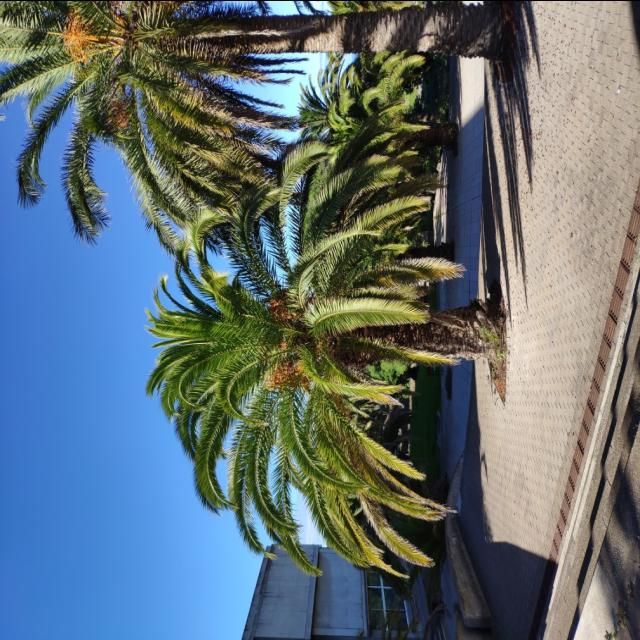Palm-Trees: (151, 114, 500, 563)
